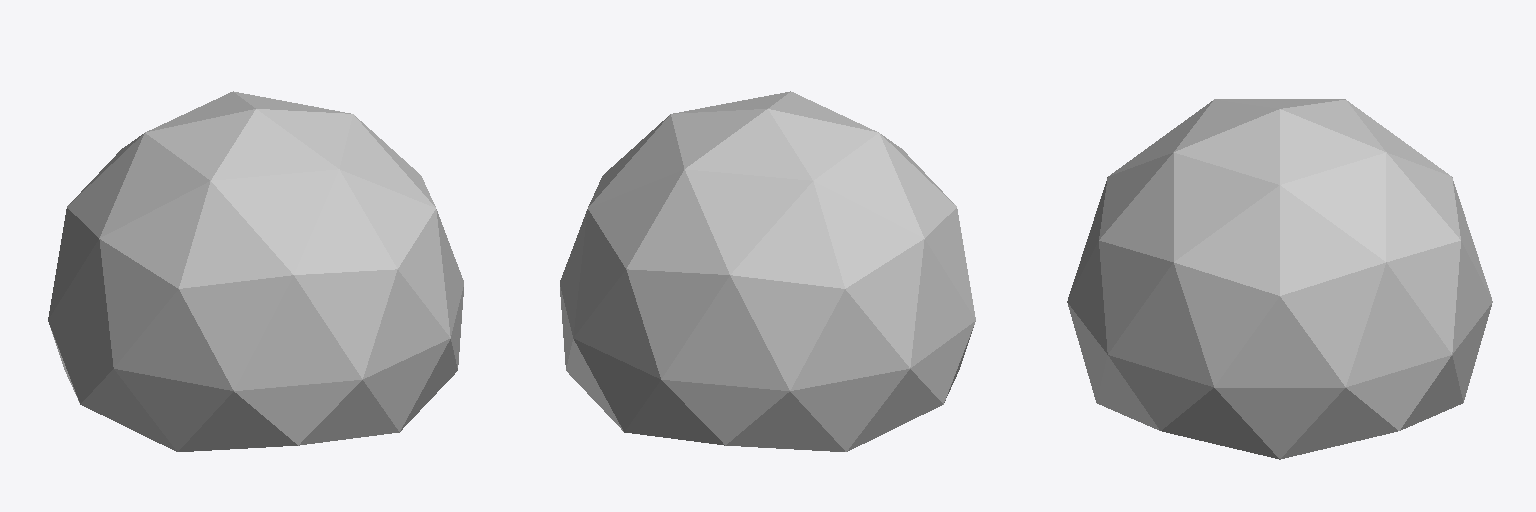
The model's file is ExportedObj;rock03_0_0.obj.
3 views of the same model, side by side, from view 1: azimuth 30°, elevation 25°; view 2: azimuth 150°, elevation 25°; view 3: azimuth 270°, elevation 25° (orthographic).
Parts seen in each view (by area): view 1: rock03; view 2: rock03; view 3: rock03.
Part boxes in pixels (x1,y1,x2,y2): rock03: (48, 91, 463, 451); rock03: (560, 91, 975, 451); rock03: (1067, 99, 1492, 459).
Size of the model in its own units: 1.9 by 1.52 by 2.